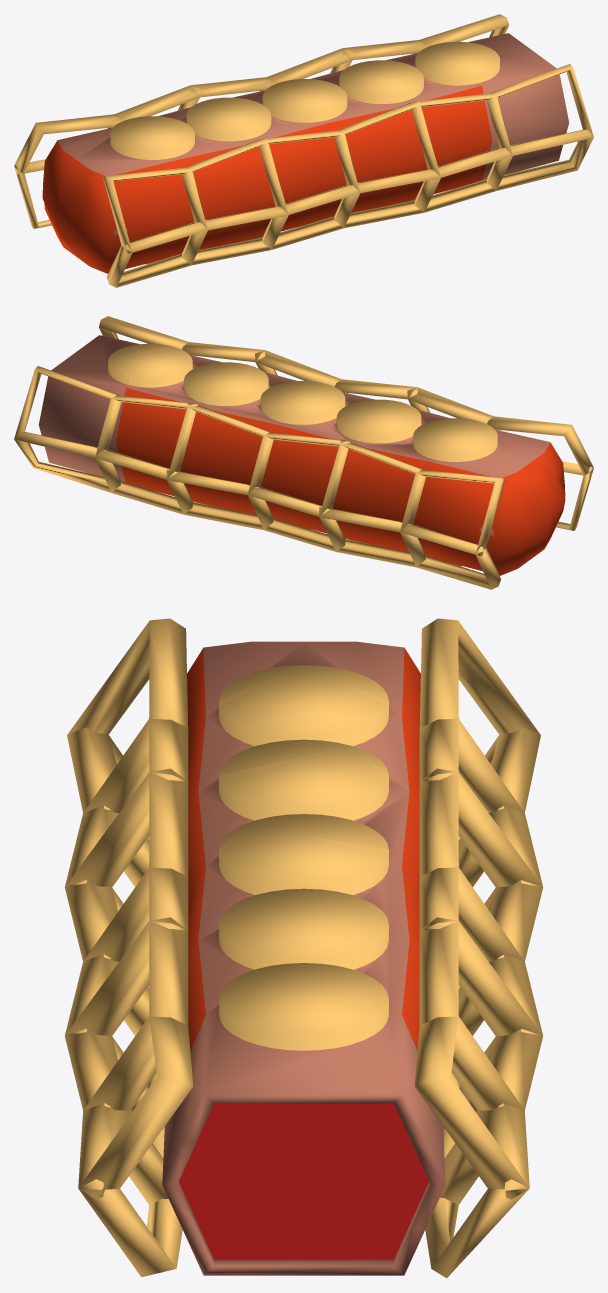
Rendered from Gun.fbx.
3 renders of one model, top to bottom at view 1: azimuth 30°, elevation 25°; view 2: azimuth 150°, elevation 25°; view 3: azimuth 270°, elevation 25°, orthographic. The views are drawn at different scales.
Parts seen in each view (by area): view 1: Cube, Cube.001; view 2: Cube, Cube.001; view 3: Cube, Cube.001.
Boxes of the visible parts, <box> form: Cube: <box>42,33,569,273</box>; Cube.001: <box>14,14,593,287</box>; Cube: <box>38,335,565,575</box>; Cube.001: <box>14,316,593,589</box>; Cube: <box>162,641,445,1275</box>; Cube.001: <box>64,618,543,1278</box>.
Bounding box in the file's own units: 1054 × 240 × 453.
